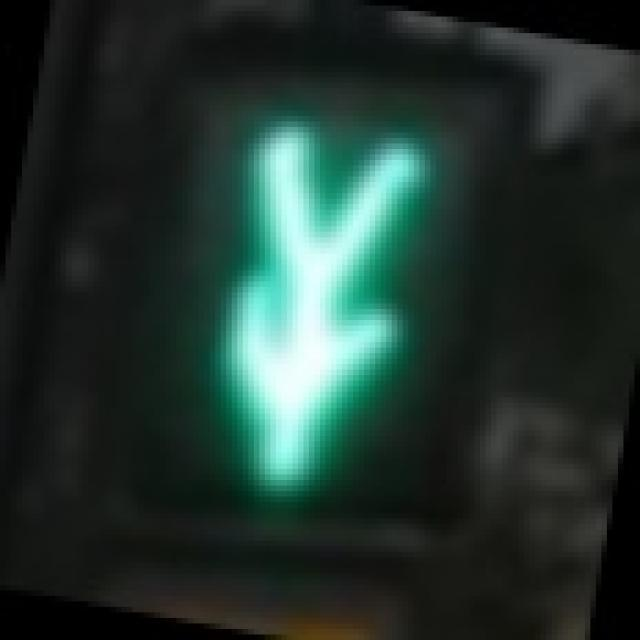green-light: (111, 73, 514, 553)
